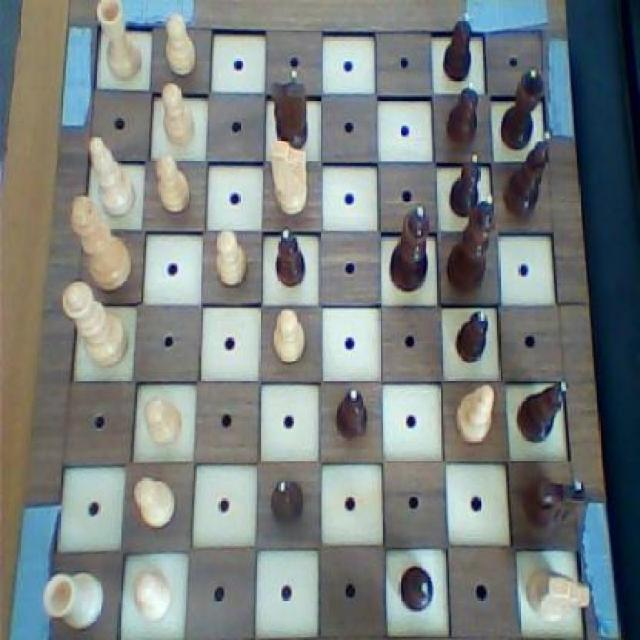bishop: (500, 129, 555, 226), (515, 374, 571, 449)
black-bishop: (442, 197, 499, 295)
black-king: (525, 472, 589, 542), (266, 68, 314, 154)
black-knight: (329, 384, 374, 452), (439, 6, 476, 88), (443, 76, 482, 152), (446, 148, 485, 223), (394, 560, 441, 622), (265, 471, 312, 530), (271, 222, 310, 293), (454, 308, 489, 366)
black-pawn: (388, 203, 432, 295)
black-queen: (494, 62, 546, 154)
black-rook: (83, 134, 138, 221), (452, 382, 502, 449)
white-bishop: (65, 192, 136, 296)
white-king: (520, 555, 596, 630), (265, 135, 317, 221)
white-knight: (129, 469, 181, 533), (157, 78, 201, 152), (129, 558, 175, 626), (138, 392, 186, 457), (151, 153, 195, 220), (268, 304, 312, 368), (160, 8, 200, 78), (211, 223, 250, 290)
white-pawn: (58, 276, 130, 372)
white-queen: (92, 0, 148, 85), (37, 566, 105, 635)
